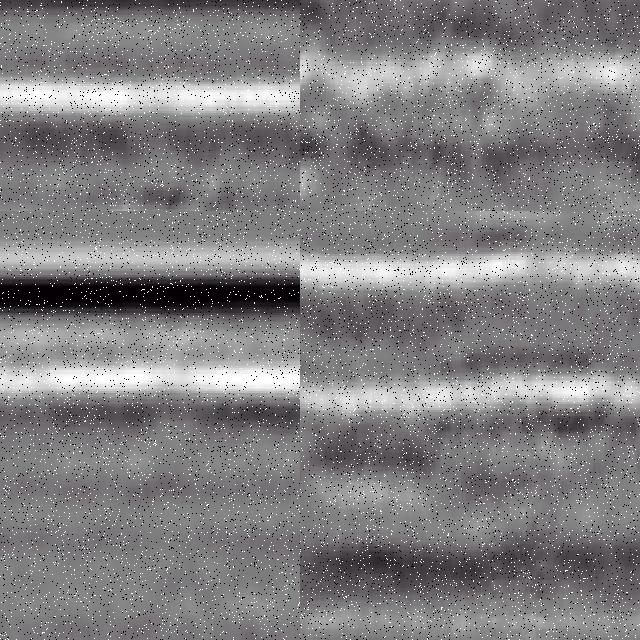loose: (1, 379, 82, 553)
